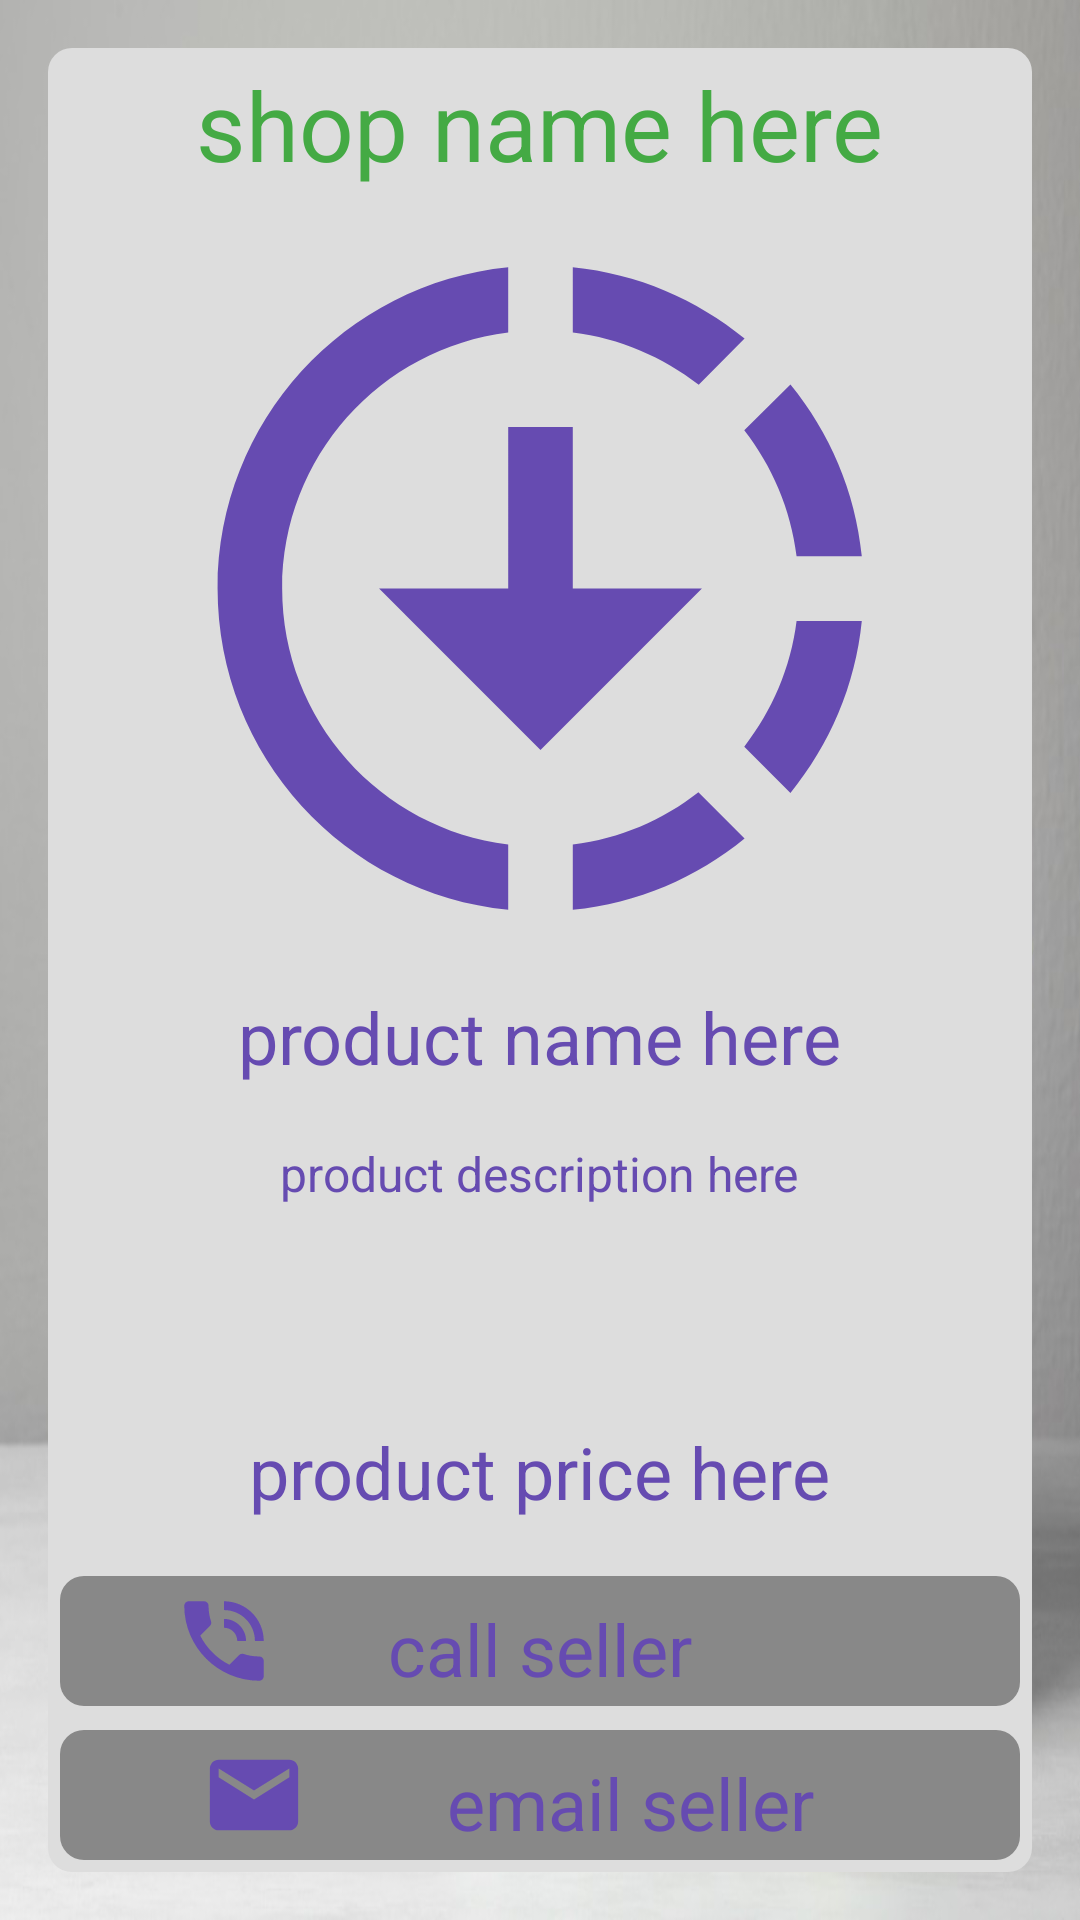

Locate icon controls on the screen. Image size 1080*1920, boxes as region(x1, y1, x2, y2).
phone: region(184, 1601, 264, 1681)
